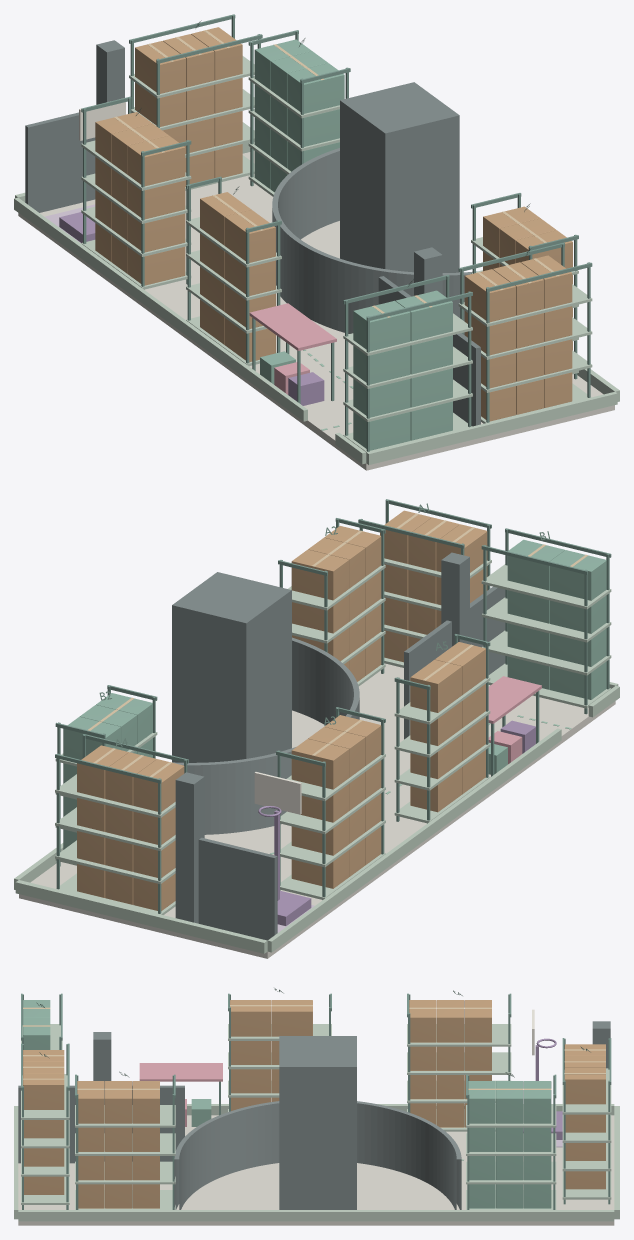
File: warehouse-layout.glb
3 renders of one model, top to bottom at view 1: azimuth 30°, elevation 25°; view 2: azimuth 150°, elevation 25°; view 3: azimuth 270°, elevation 25°, orthographic. The views are drawn at different scales.
Visible parts, largest first — view 1: EXISTING_column, EXISTING_CURVED_ENCLOSURE_cutaway, ROOM_FLOOR_3540x8585, EXISTING_brace-bottom, Existing_wall_cutaway_4, Existing_wall_cutaway_0, A3_shipment_carton_10, INSPECTION_WORKTOP, EXISTING_divider, B1_shipment_carton_7, B2_shipment_carton_10, A4_shipment_carton_10 (+64 smaller); view 2: EXISTING_column, ROOM_FLOOR_3540x8585, EXISTING_CURVED_ENCLOSURE_cutaway, EXISTING_brace-bottom, Existing_wall_cutaway_4, EXISTING_post-bottom, Existing_wall_cutaway_2, EXISTING_divider, EXISTING_post-top, A3_shipment_carton_12, A2_shipment_carton_12, B1_shipment_carton_7 (+68 smaller); view 3: EXISTING_column, EXISTING_CURVED_ENCLOSURE_cutaway, ROOM_FLOOR_3540x8585, Existing_wall_cutaway_1, EXISTING_divider, INSPECTION_WORKTOP, A1_shipment_carton_12, A4_shipment_carton_12, A5_shipment_carton_7, A5_shipment_carton_8, B2_shipment_carton_12, A2_shipment_carton_11 (+76 smaller).
Boxes of the visible parts, <box> form: EXISTING_column: <box>340,82,459,272</box>; EXISTING_CURVED_ENCLOSURE_cutaway: <box>272,148,476,334</box>; ROOM_FLOOR_3540x8585: <box>18,151,614,470</box>; EXISTING_brace-bottom: <box>25,112,95,212</box>; Existing_wall_cutaway_4: <box>14,197,307,421</box>; Existing_wall_cutaway_0: <box>366,392,617,464</box>; A3_shipment_carton_10: <box>127,135,185,186</box>; INSPECTION_WORKTOP: <box>249,303,336,350</box>; EXISTING_divider: <box>378,276,480,426</box>; B1_shipment_carton_7: <box>353,300,410,351</box>; B2_shipment_carton_10: <box>287,63,344,113</box>; A4_shipment_carton_10: <box>135,41,186,93</box>; EXISTING_column: <box>172,572,291,762</box>; ROOM_FLOOR_3540x8585: <box>19,663,615,958</box>; EXISTING_CURVED_ENCLOSURE_cutaway: <box>172,637,359,834</box>; EXISTING_brace-bottom: <box>198,837,277,940</box>; Existing_wall_cutaway_4: <box>267,728,561,952</box>; EXISTING_post-bottom: <box>175,772,204,923</box>; Existing_wall_cutaway_2: <box>15,880,267,953</box>; EXISTING_divider: <box>404,586,505,739</box>; EXISTING_post-top: <box>441,552,469,646</box>; A3_shipment_carton_12: <box>291,739,349,789</box>; A2_shipment_carton_12: <box>291,549,349,600</box>; B1_shipment_carton_7: <box>549,550,606,600</box>; EXISTING_column: <box>279,1036,356,1209</box>; EXISTING_CURVED_ENCLOSURE_cutaway: <box>174,1101,461,1209</box>; ROOM_FLOOR_3540x8585: <box>18,1115,614,1225</box>; Existing_wall_cutaway_1: <box>18,1210,614,1221</box>; EXISTING_divider: <box>18,1085,184,1163</box>; INSPECTION_WORKTOP: <box>139,1063,222,1081</box>; A1_shipment_carton_12: <box>23,1073,64,1109</box>; A4_shipment_carton_12: <box>564,1068,605,1104</box>; A5_shipment_carton_7: <box>230,1000,271,1036</box>; A5_shipment_carton_8: <box>271,1000,312,1036</box>; B2_shipment_carton_12: <box>523,1081,551,1123</box>; A2_shipment_carton_11: <box>105,1081,132,1123</box>.
Size of the model in its own units: 3.67 by 2.5 by 8.72.
